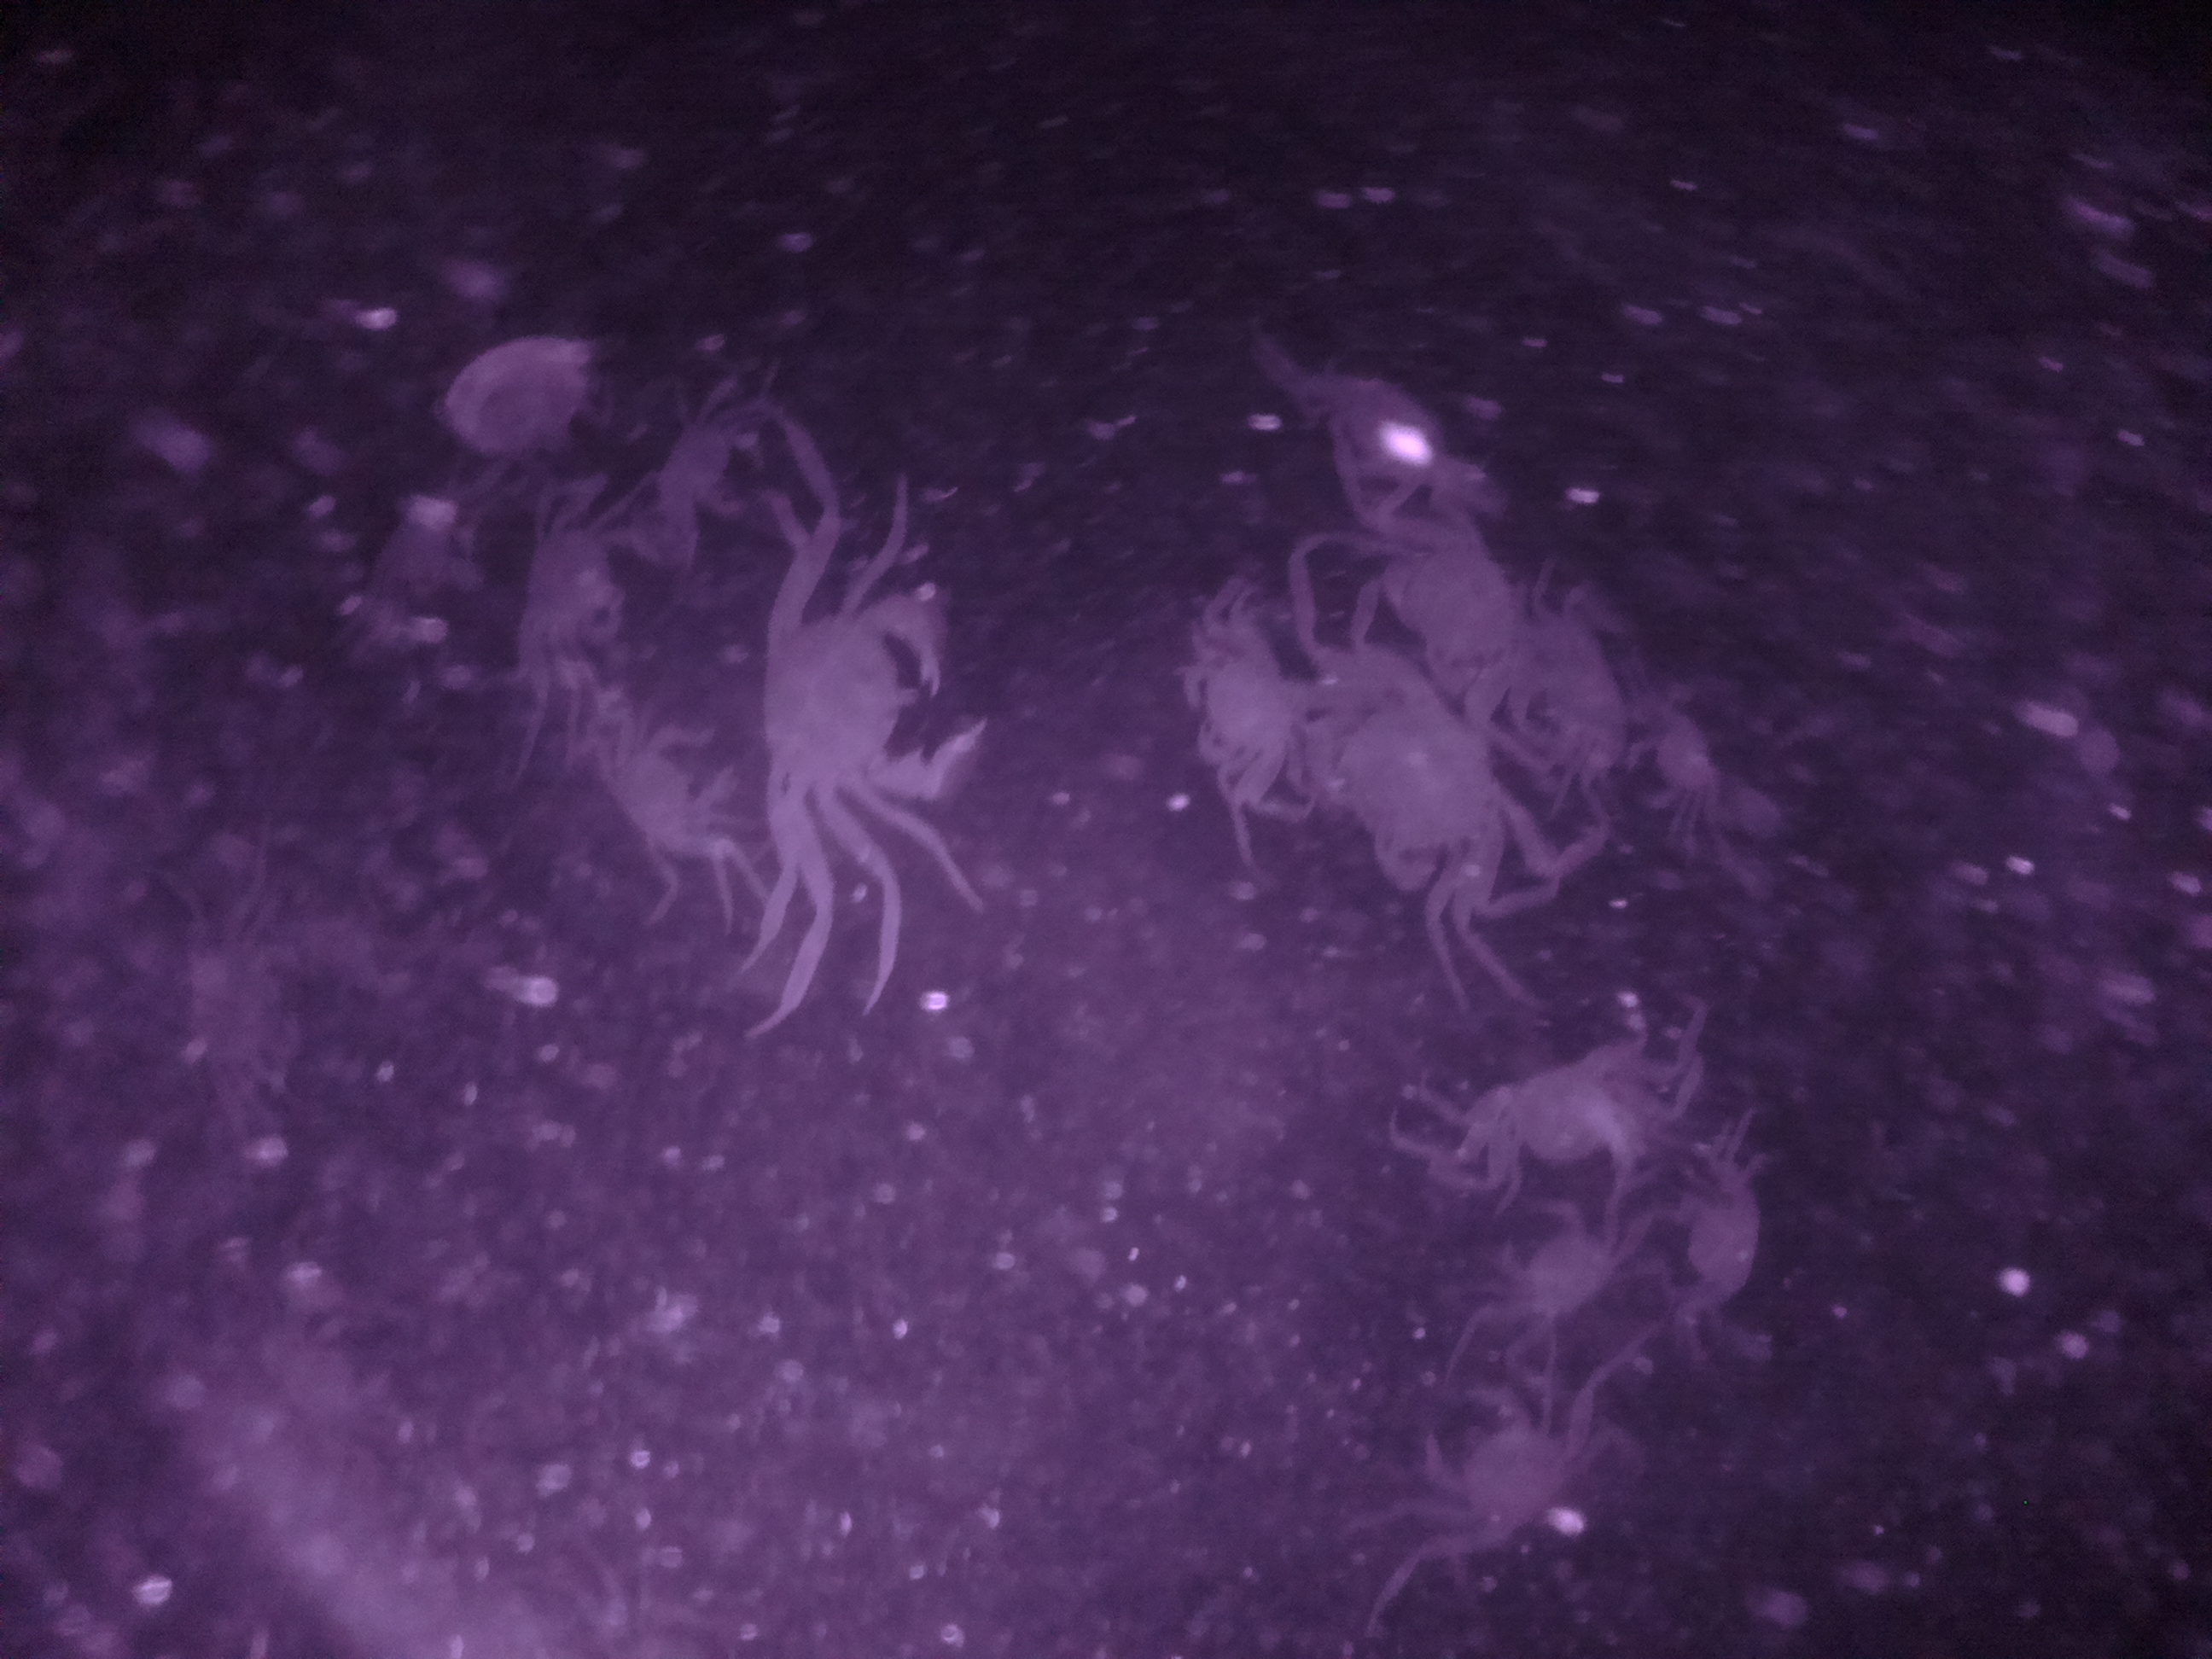Crab: (737, 547, 993, 850), (1393, 1364, 1609, 1575), (1423, 1037, 1684, 1194), (1176, 608, 1299, 805)
